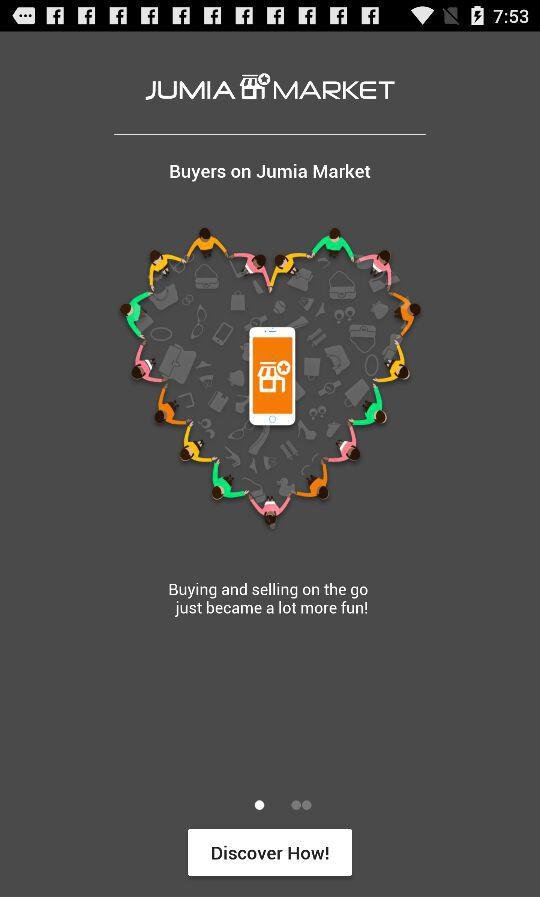Image: (116, 226, 423, 532), (145, 74, 396, 103)
PageIndicator: (253, 798, 313, 813)
Text: (168, 582, 369, 619), (169, 162, 372, 183)
TextButton: (188, 829, 353, 877)
UpperTaskBar: (1, 1, 540, 33)
